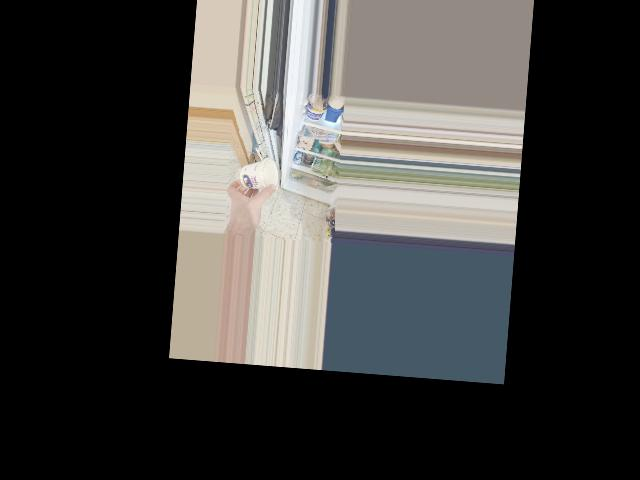cotage: (237, 154, 281, 196)
